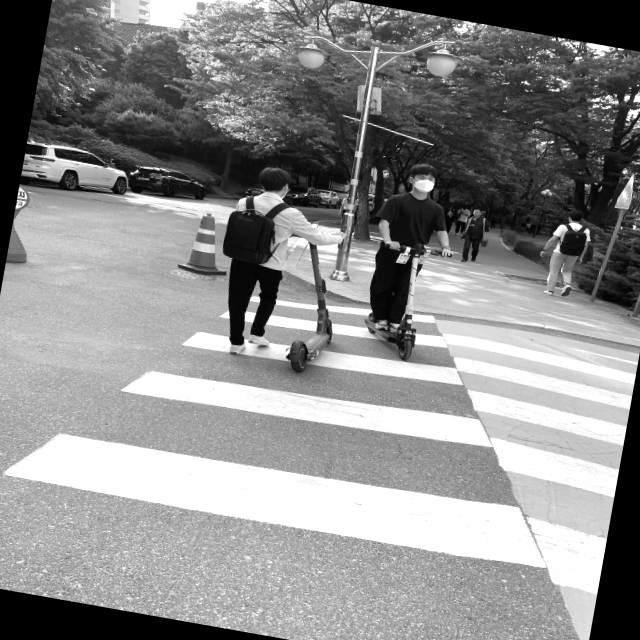bare_head: (411, 162, 447, 201)
human: (361, 148, 450, 325)
kickboard: (349, 306, 435, 376)
